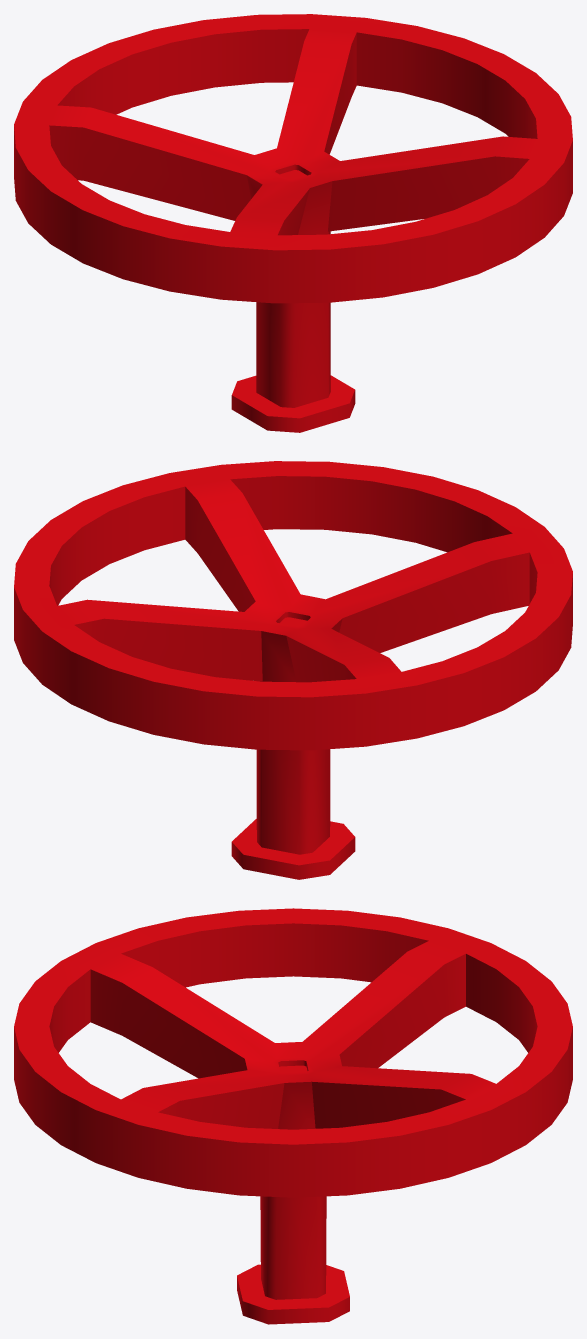
The model's file is ValveB.fbx.
3 renders of one model, top to bottom at view 1: azimuth 30°, elevation 25°; view 2: azimuth 150°, elevation 25°; view 3: azimuth 270°, elevation 25°, orthographic.
Visible parts, largest first — view 1: ValveB; view 2: ValveB; view 3: ValveB.
Part boxes in pixels (box(x1,y1,x2,y2)): ValveB: box(14, 14, 572, 432); ValveB: box(14, 461, 572, 879); ValveB: box(14, 908, 572, 1324).
Size of the model in its own units: 97.72 by 53.13 by 97.72.
